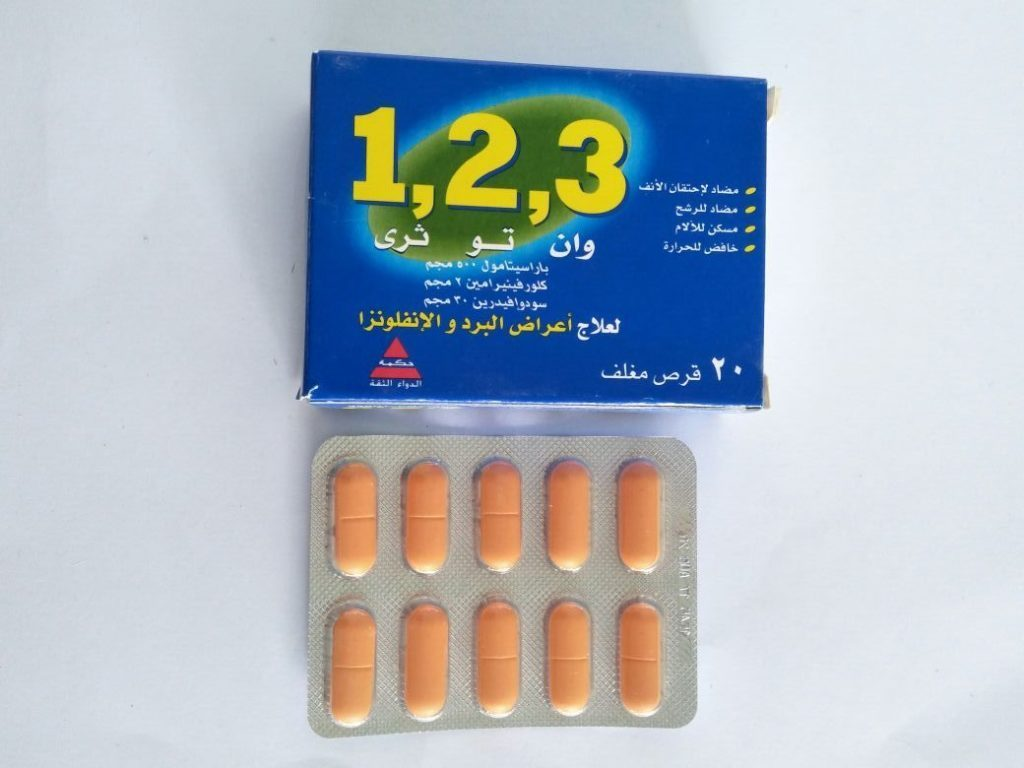Medicine: (296, 40, 776, 412)
